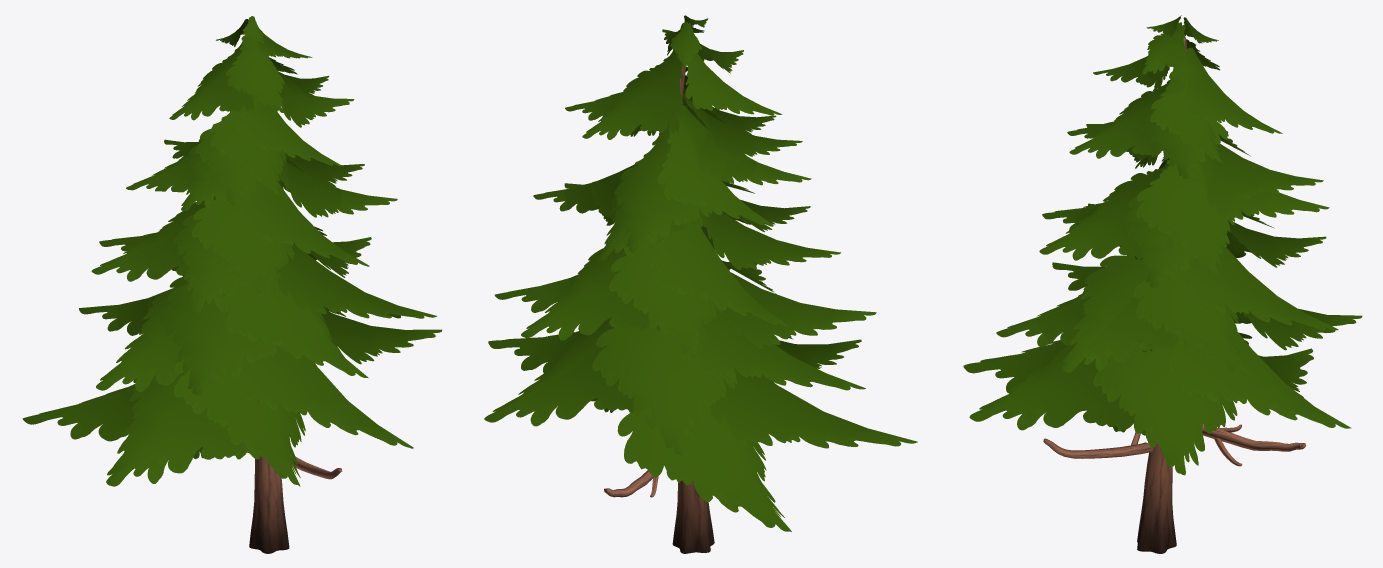
File: pine_2.glb
The picture shows the model from 3 angles, left to right: view 1: azimuth 30°, elevation 25°; view 2: azimuth 150°, elevation 25°; view 3: azimuth 270°, elevation 25°; orthographic projection. The views are drawn at different scales.
Parts seen in each view (by area): view 1: Pine_2; view 2: Pine_2; view 3: Pine_2.
Boxes of the visible parts, x1,y1,x2,y2 form: Pine_2: (22,16,441,553); Pine_2: (484,15,917,553); Pine_2: (963,15,1362,553).
Bounding box in the file's own units: 5.73 × 7.38 × 5.22.
2 materials, 2 textured.
